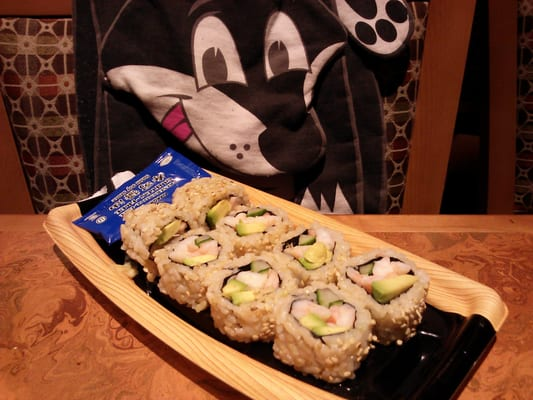curry: (5, 67, 515, 400), (9, 173, 531, 400)
